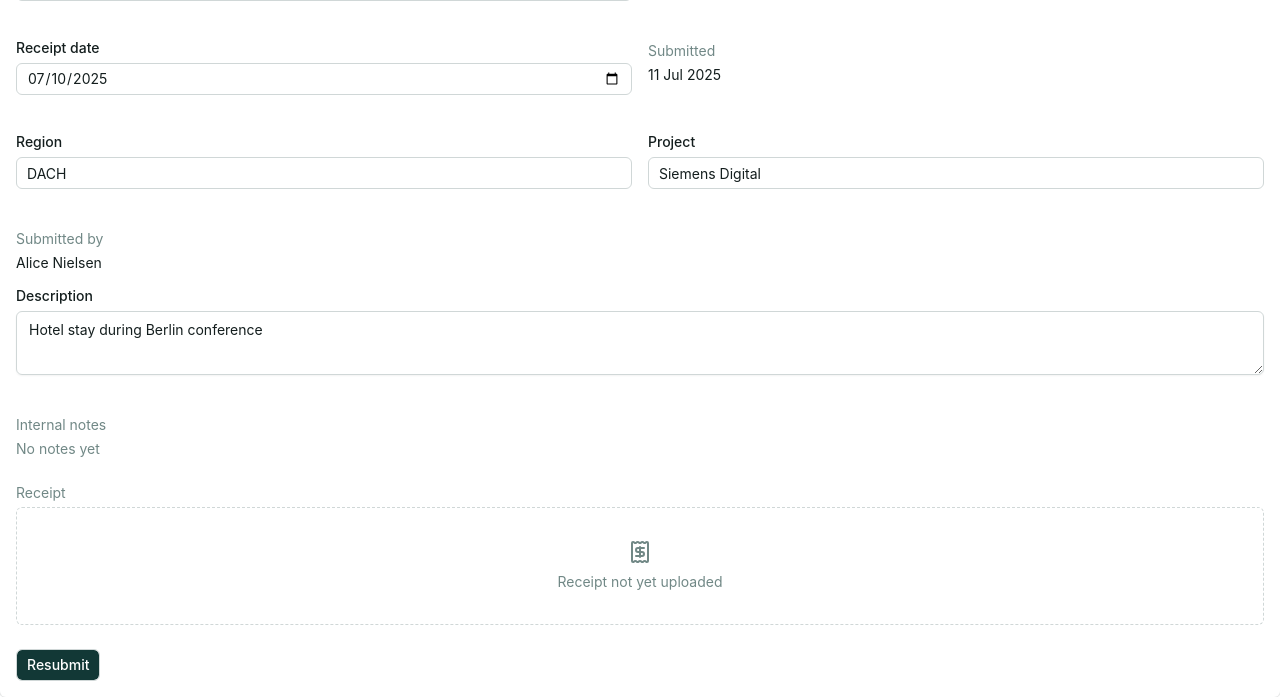
Test: ExpenseDetailCard › resubmit › success feedback › shows a success message and a Back to Expenses link
This screenshot has width=1280, height=697.
(page scrolled)
What coordinates should you click on to do the following:
click the button "Resubmit"
I would click on:
 (58, 665)
Its box is top-left (16, 649), bottom-right (100, 681).
(page scrolled)
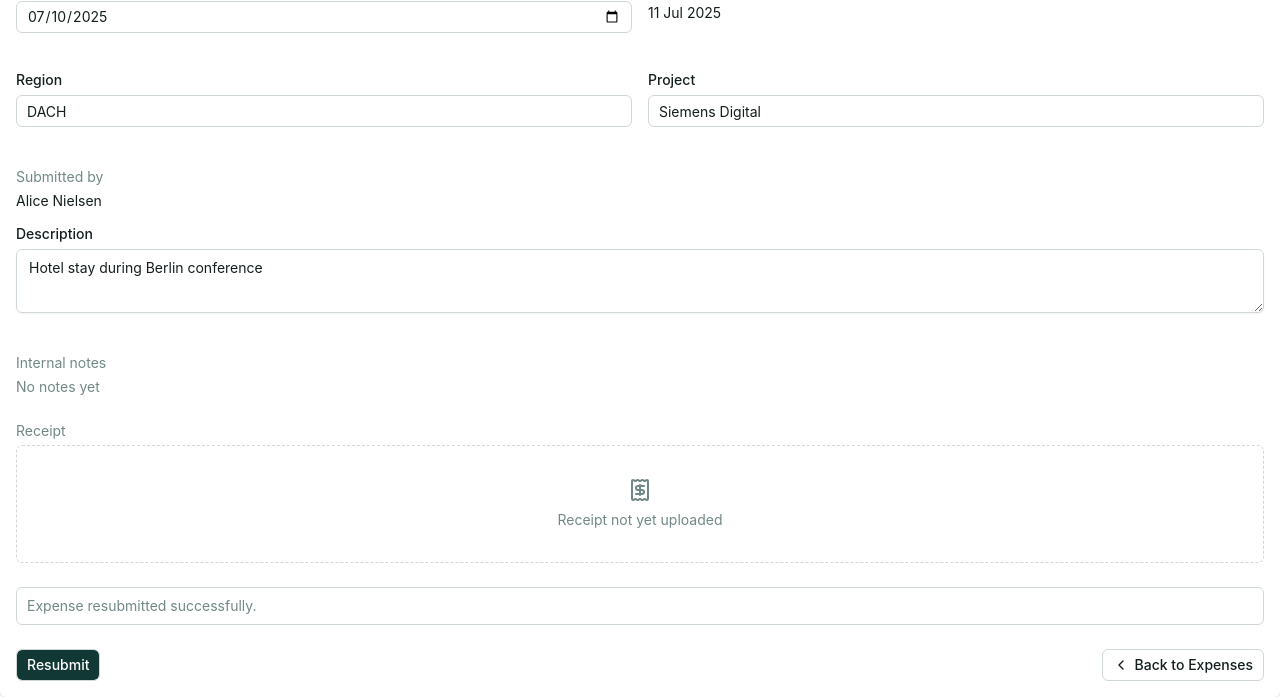
Expected: the text "Expense resubmitted successfully." is shown, top-left (27, 597), bottom-right (257, 614)
Expected: the button "Back to Expenses" is shown, top-left (1102, 649), bottom-right (1264, 681)
